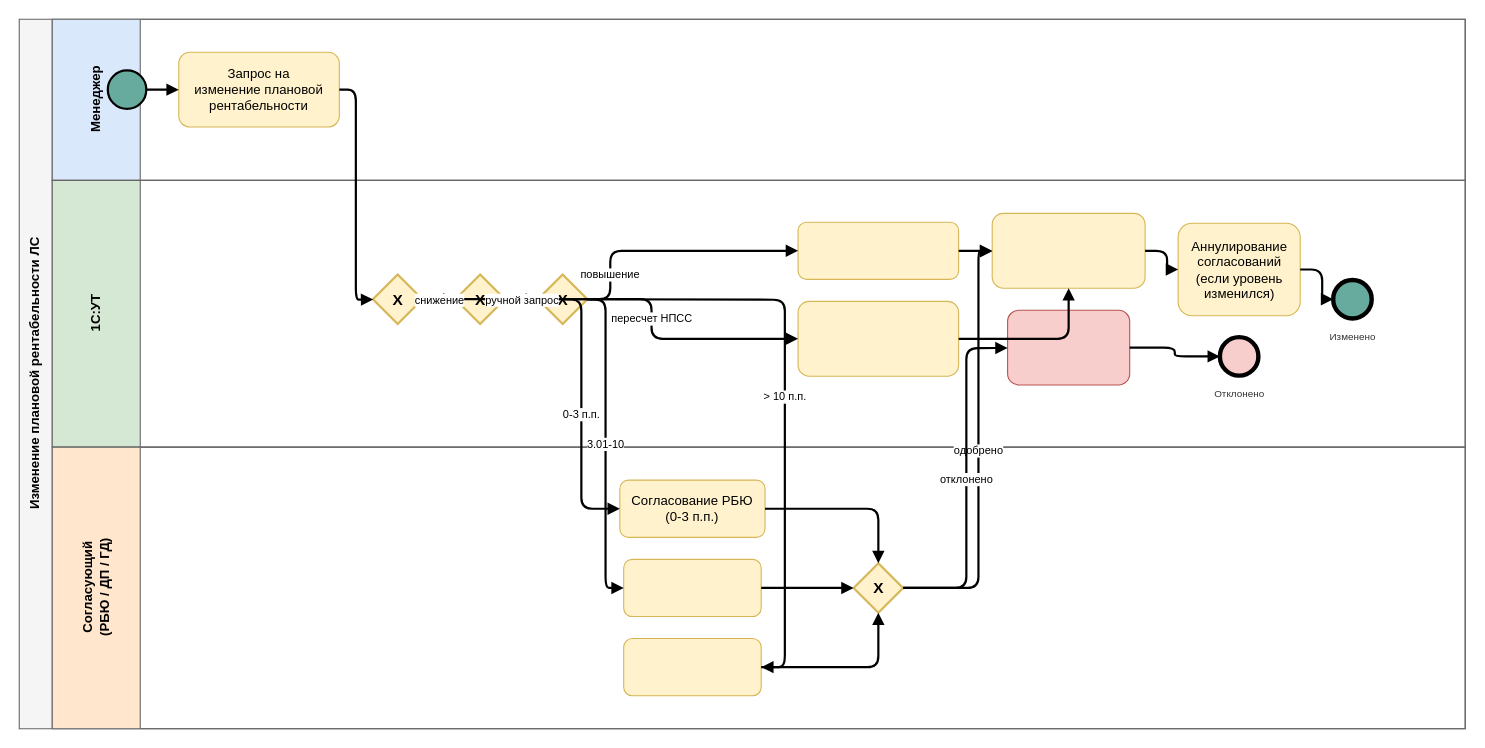
Image size: 1485x748. Some labels were removed from this diagram. The centre of each missing label's shape, as x and y in pixels:
"Отказ (изменение не применено)" belongs at pixel 1068 347.
"Повышение (без согласования)" belongs at pixel 878 250.
"Применение изменения (запись в журнал)" belongs at pixel 1068 250.
"Снижение из-за пересчета НПСС (без согласования)" belongs at pixel 878 338.
"Согласование ГД (> 10 п.п.)" belongs at pixel 692 666.
"Согласование ДП (3.01-10 п.п.)" belongs at pixel 692 587.
